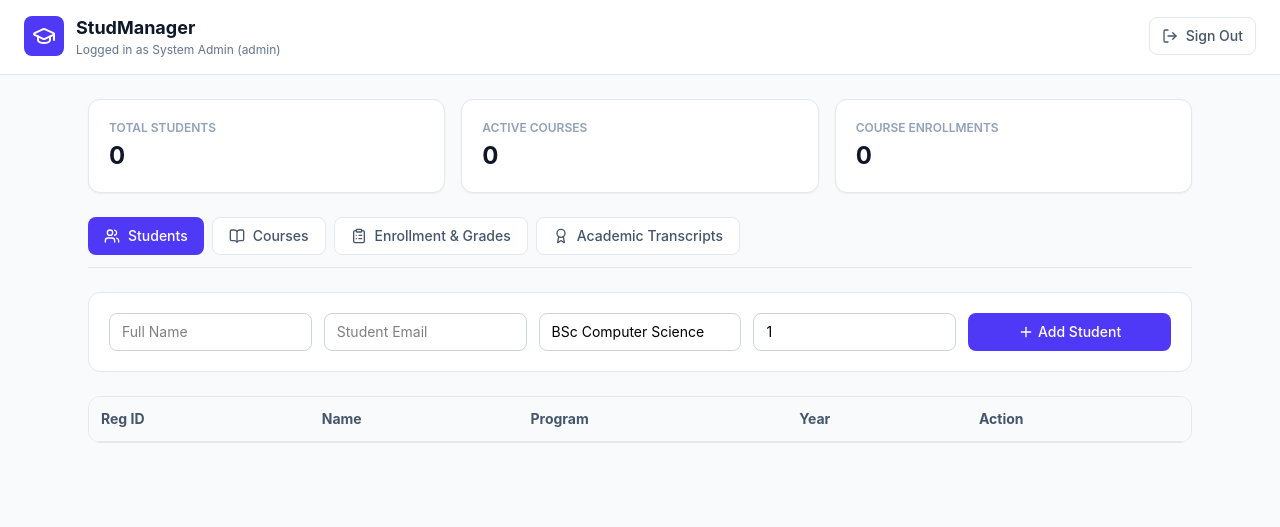
Test: Dashboard Page › renders all courses and allows adding a new student when logged in as admin
Click the button "Courses".
click(269, 236)  # box [212,217,326,255]
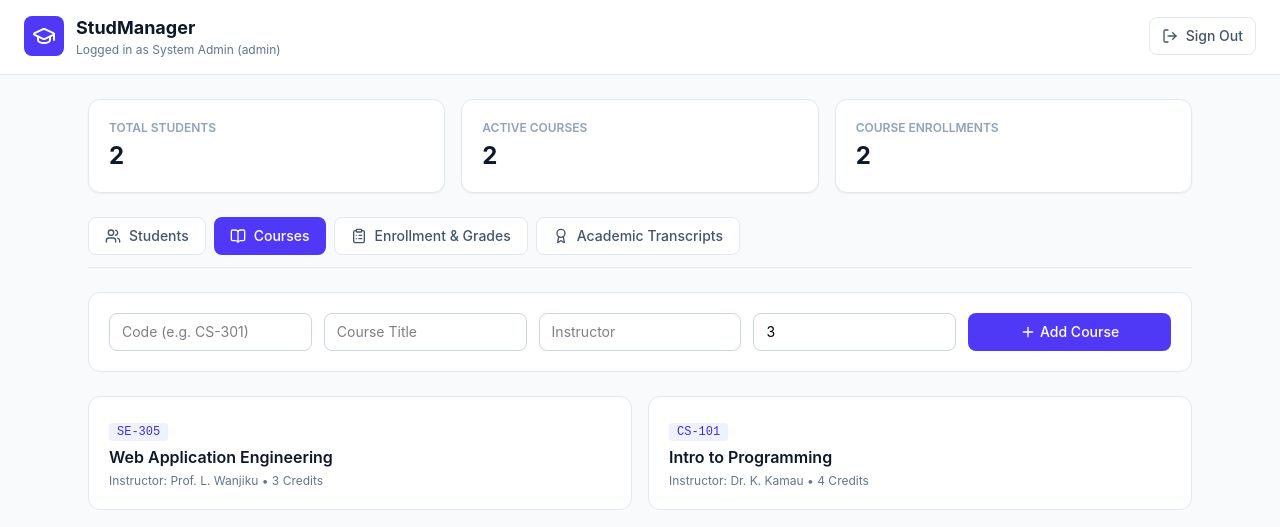
Check: the heading "Web Application Engineering" is shown, box [109,445,333,469]
Check: the heading "Intro to Programming" is shown, box [669,447,832,467]
